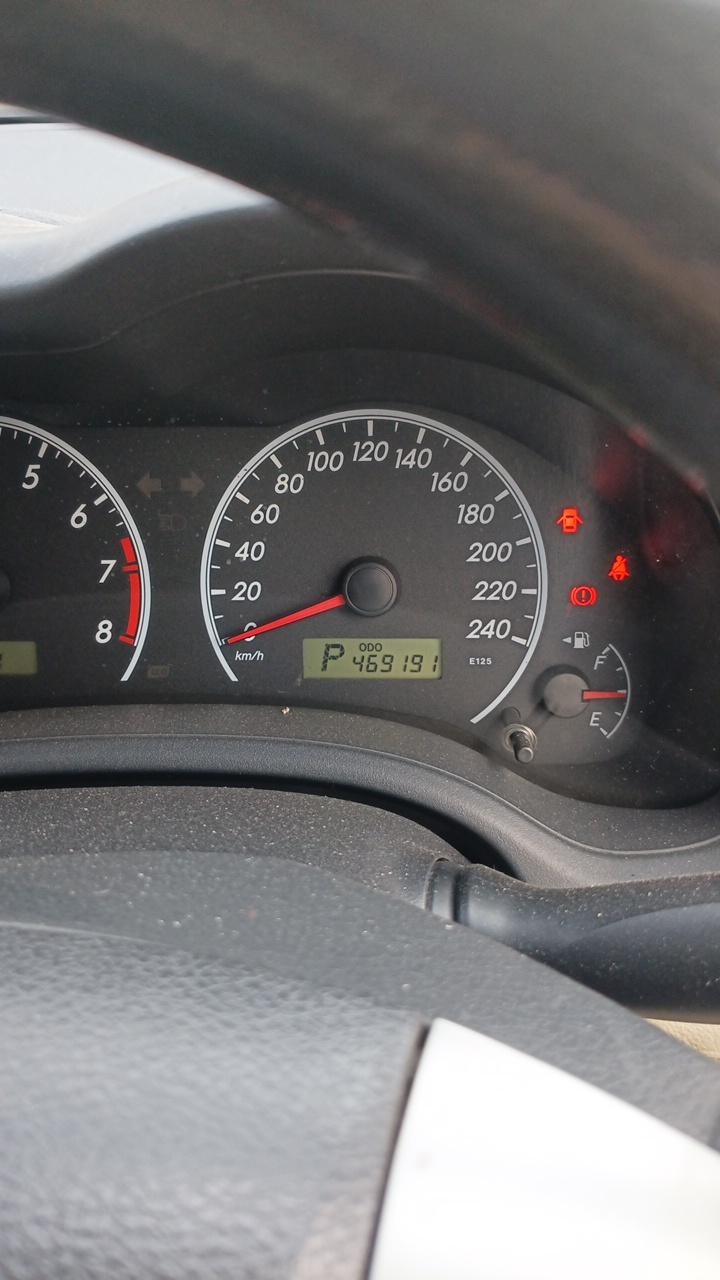0: (302, 637, 443, 681)
1: (432, 655, 439, 673), (403, 654, 409, 673)
4: (352, 655, 365, 673)
6: (365, 655, 378, 673)
9: (409, 654, 424, 673), (380, 655, 394, 672)
X: (320, 643, 345, 673), (359, 643, 367, 652), (367, 643, 374, 652), (375, 643, 382, 652)
